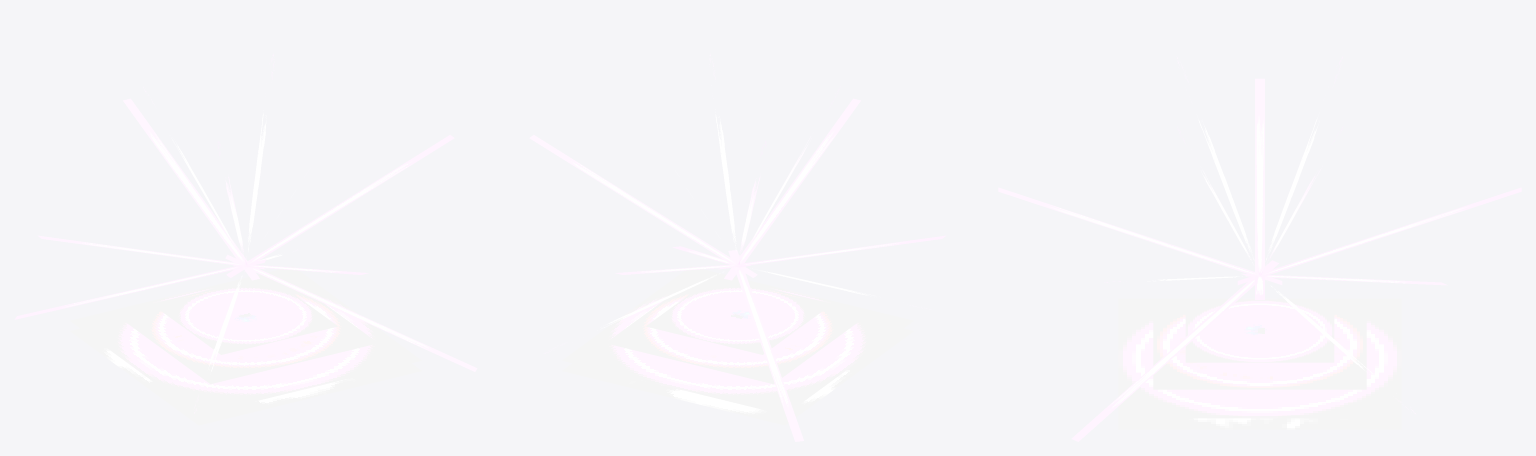
The model's file is sfx_ct0016_attack3_self1.glb.
3 renders of one model, left to right at view 1: azimuth 30°, elevation 25°; view 2: azimuth 150°, elevation 25°; view 3: azimuth 270°, elevation 25°, orthographic. The views are drawn at different scales.
Visible parts, largest first — view 1: sfx_ct0016_attack3_self1_obj2, sfx_ct0016_attack3_self1_obj1, sfx_ct0016_attack3_self1_obj0, sfx_ct0016_attack3_self1_obj17, sfx_ct0016_attack3_self1_obj12, sfx_ct0016_attack3_self1_obj9, sfx_ct0016_attack3_self1_obj14, sfx_ct0016_attack3_self1_obj16, sfx_ct0016_attack3_self1_obj11, sfx_ct0016_attack3_self1_obj6, sfx_ct0016_attack3_self1_obj15; view 2: sfx_ct0016_attack3_self1_obj2, sfx_ct0016_attack3_self1_obj1, sfx_ct0016_attack3_self1_obj0, sfx_ct0016_attack3_self1_obj17, sfx_ct0016_attack3_self1_obj16, sfx_ct0016_attack3_self1_obj10, sfx_ct0016_attack3_self1_obj9, sfx_ct0016_attack3_self1_obj11, sfx_ct0016_attack3_self1_obj7; view 3: sfx_ct0016_attack3_self1_obj2, sfx_ct0016_attack3_self1_obj1, sfx_ct0016_attack3_self1_obj0, sfx_ct0016_attack3_self1_obj17, sfx_ct0016_attack3_self1_obj14, sfx_ct0016_attack3_self1_obj11, sfx_ct0016_attack3_self1_obj10, sfx_ct0016_attack3_self1_obj12, sfx_ct0016_attack3_self1_obj8, sfx_ct0016_attack3_self1_obj16, sfx_ct0016_attack3_self1_obj5, sfx_ct0016_attack3_self1_obj13.
Boxes of the visible parts, bbox=[...] form: sfx_ct0016_attack3_self1_obj2: bbox=[70, 266, 421, 414]; sfx_ct0016_attack3_self1_obj1: bbox=[114, 272, 377, 384]; sfx_ct0016_attack3_self1_obj0: bbox=[154, 278, 337, 354]; sfx_ct0016_attack3_self1_obj17: bbox=[70, 328, 421, 425]; sfx_ct0016_attack3_self1_obj12: bbox=[123, 98, 259, 280]; sfx_ct0016_attack3_self1_obj9: bbox=[226, 135, 454, 277]; sfx_ct0016_attack3_self1_obj14: bbox=[225, 254, 477, 371]; sfx_ct0016_attack3_self1_obj16: bbox=[14, 259, 266, 319]; sfx_ct0016_attack3_self1_obj11: bbox=[38, 235, 265, 269]; sfx_ct0016_attack3_self1_obj6: bbox=[244, 54, 274, 271]; sfx_ct0016_attack3_self1_obj15: bbox=[194, 261, 247, 413]; sfx_ct0016_attack3_self1_obj2: bbox=[562, 266, 913, 414]; sfx_ct0016_attack3_self1_obj1: bbox=[606, 272, 869, 384]; sfx_ct0016_attack3_self1_obj0: bbox=[646, 277, 829, 354]; sfx_ct0016_attack3_self1_obj17: bbox=[562, 328, 913, 425]; sfx_ct0016_attack3_self1_obj16: bbox=[728, 250, 803, 441]; sfx_ct0016_attack3_self1_obj10: bbox=[724, 98, 860, 280]; sfx_ct0016_attack3_self1_obj9: bbox=[529, 135, 757, 277]; sfx_ct0016_attack3_self1_obj11: bbox=[718, 235, 945, 269]; sfx_ct0016_attack3_self1_obj7: bbox=[709, 54, 738, 264]; sfx_ct0016_attack3_self1_obj2: bbox=[1118, 298, 1401, 418]; sfx_ct0016_attack3_self1_obj1: bbox=[1153, 299, 1366, 389]; sfx_ct0016_attack3_self1_obj0: bbox=[1185, 300, 1334, 362]; sfx_ct0016_attack3_self1_obj17: bbox=[1118, 418, 1401, 429]; sfx_ct0016_attack3_self1_obj14: bbox=[1071, 260, 1278, 441]; sfx_ct0016_attack3_self1_obj11: bbox=[1255, 78, 1264, 274]; sfx_ct0016_attack3_self1_obj10: bbox=[998, 187, 1282, 284]; sfx_ct0016_attack3_self1_obj12: bbox=[1237, 187, 1521, 284]; sfx_ct0016_attack3_self1_obj8: bbox=[1177, 57, 1259, 275]; sfx_ct0016_attack3_self1_obj16: bbox=[1241, 273, 1447, 285]; sfx_ct0016_attack3_self1_obj5: bbox=[1259, 56, 1342, 275]; sfx_ct0016_attack3_self1_obj13: bbox=[1255, 271, 1415, 413].
Bounding box in the file's own units: 7.85 × 5.17 × 7.85.
5 materials, 5 textured.
